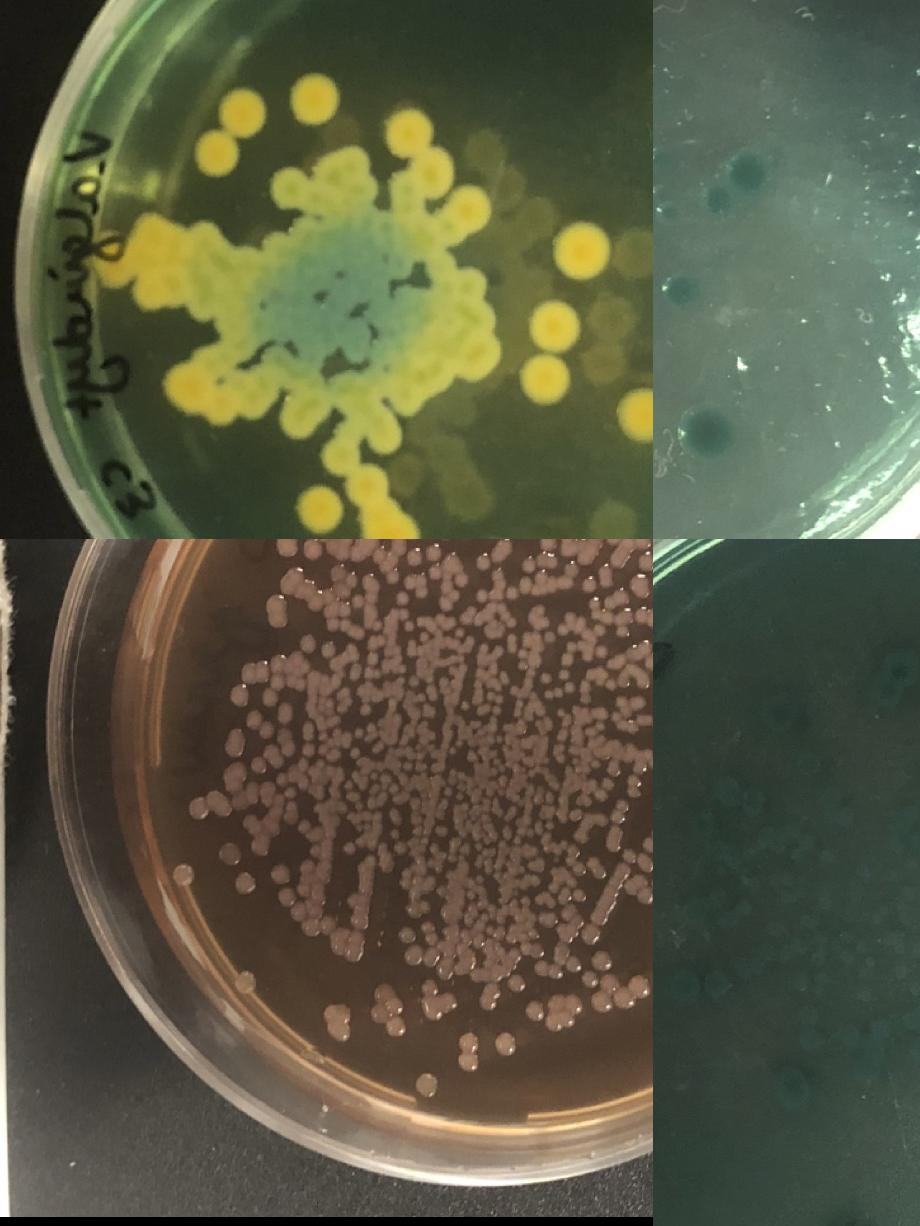pddamselae: (682, 405, 734, 457), (874, 653, 916, 706), (724, 149, 770, 193), (700, 970, 732, 1000), (780, 1068, 811, 1098), (712, 775, 742, 805), (764, 698, 792, 728), (800, 1030, 824, 1054), (708, 886, 732, 910), (797, 1002, 820, 1026), (797, 754, 820, 778), (910, 1034, 920, 1064)
valgino: (323, 416, 420, 539), (424, 251, 498, 389), (161, 345, 269, 423), (518, 296, 584, 404), (192, 85, 270, 175), (385, 108, 455, 201), (90, 215, 176, 284), (434, 184, 492, 242), (552, 220, 610, 276), (288, 73, 342, 127), (332, 143, 378, 202), (279, 389, 330, 437), (614, 385, 653, 441), (297, 485, 343, 531), (132, 264, 178, 310), (272, 166, 314, 208), (188, 220, 224, 258), (392, 384, 424, 416), (340, 321, 370, 353), (260, 232, 292, 262), (333, 374, 362, 407), (226, 330, 254, 364), (188, 289, 219, 319), (262, 345, 292, 375)
vharveyi: (524, 992, 585, 1030), (277, 886, 321, 936), (533, 953, 584, 980), (260, 686, 296, 724), (421, 988, 459, 1022), (241, 705, 276, 740), (580, 950, 612, 988), (542, 666, 576, 701), (298, 632, 338, 660), (455, 1030, 481, 1073), (398, 924, 422, 964), (517, 551, 536, 595), (492, 1030, 520, 1056), (626, 972, 653, 998), (232, 869, 258, 896), (186, 793, 212, 820), (413, 1072, 439, 1098), (232, 970, 258, 996), (217, 840, 243, 866), (171, 861, 197, 887), (226, 682, 252, 707), (267, 593, 286, 627), (382, 1014, 406, 1040), (371, 979, 395, 1005), (329, 1020, 353, 1044), (273, 539, 300, 558), (328, 560, 348, 584), (248, 753, 268, 777), (634, 548, 653, 572), (442, 784, 466, 801), (507, 974, 527, 994), (453, 569, 473, 589), (446, 737, 466, 757), (393, 588, 413, 608), (304, 540, 324, 560), (270, 862, 290, 882), (250, 836, 270, 856), (580, 571, 598, 593), (479, 991, 498, 1011), (630, 692, 648, 712), (620, 844, 638, 864), (474, 550, 492, 570), (471, 586, 491, 604), (636, 886, 653, 906), (640, 835, 653, 855), (356, 704, 373, 716), (538, 670, 552, 684), (646, 602, 653, 628), (415, 689, 428, 703), (402, 618, 415, 632), (544, 629, 556, 644), (434, 823, 449, 835), (387, 827, 402, 839), (556, 621, 568, 635), (542, 819, 556, 831), (474, 871, 488, 883), (459, 697, 471, 711), (437, 674, 449, 688), (418, 629, 430, 643), (408, 673, 420, 687), (354, 725, 366, 739), (349, 745, 361, 759), (342, 842, 356, 854), (493, 732, 506, 744), (402, 758, 415, 770), (342, 778, 355, 790), (510, 833, 522, 845), (491, 704, 503, 716), (388, 782, 400, 794), (368, 769, 380, 781), (354, 800, 366, 812), (466, 888, 477, 900)
